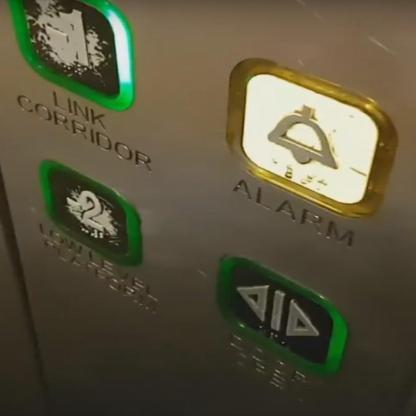-1: (6, 0, 134, 112)
2: (37, 158, 142, 270)
alarm: (224, 58, 398, 221)
open: (217, 252, 347, 382)
